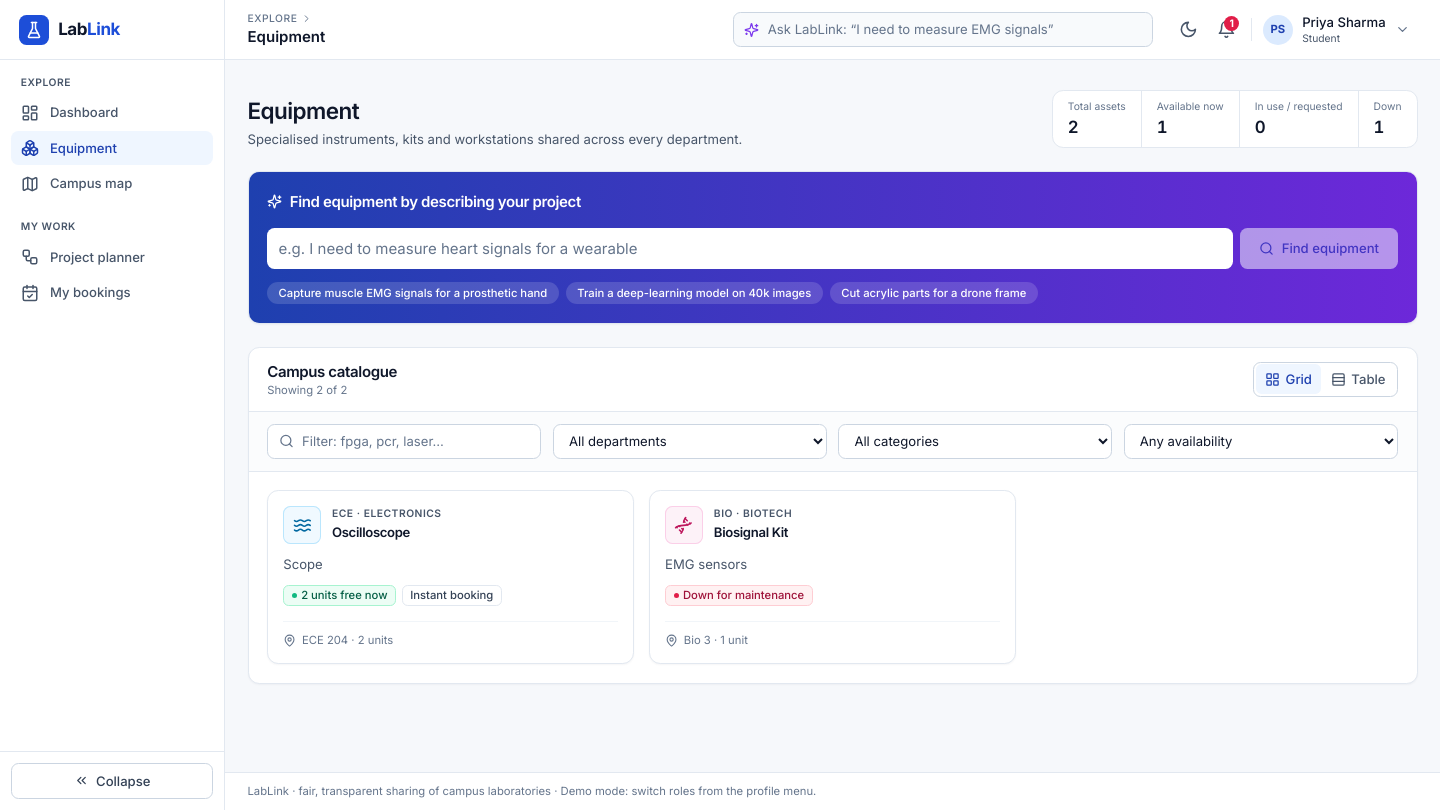
Test: equipment catalogue › lists, filters and shows live status
Expected: the link "Oscilloscope" is shown, left=332, top=524, right=410, bottom=540
Expected: the text "2 units free now" is shown, left=283, top=585, right=396, bottom=606
Select "Biotech" in the 1st dropdown named "Department": [690, 441] box left=553, top=424, right=827, bottom=458
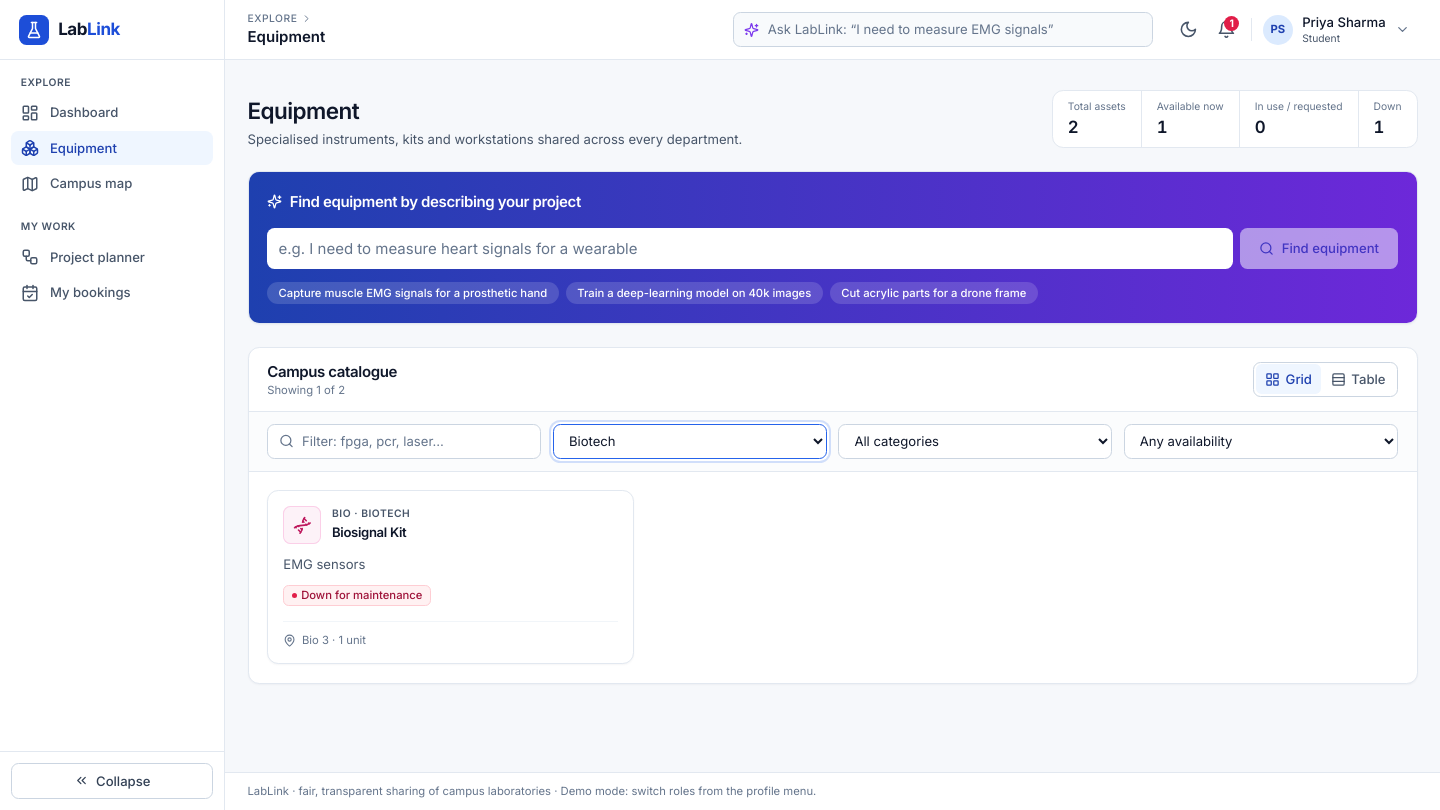
Expected: the link "Biosignal Kit" is shown, left=332, top=524, right=406, bottom=540
Expected: the link "Oscilloscope" is gone
